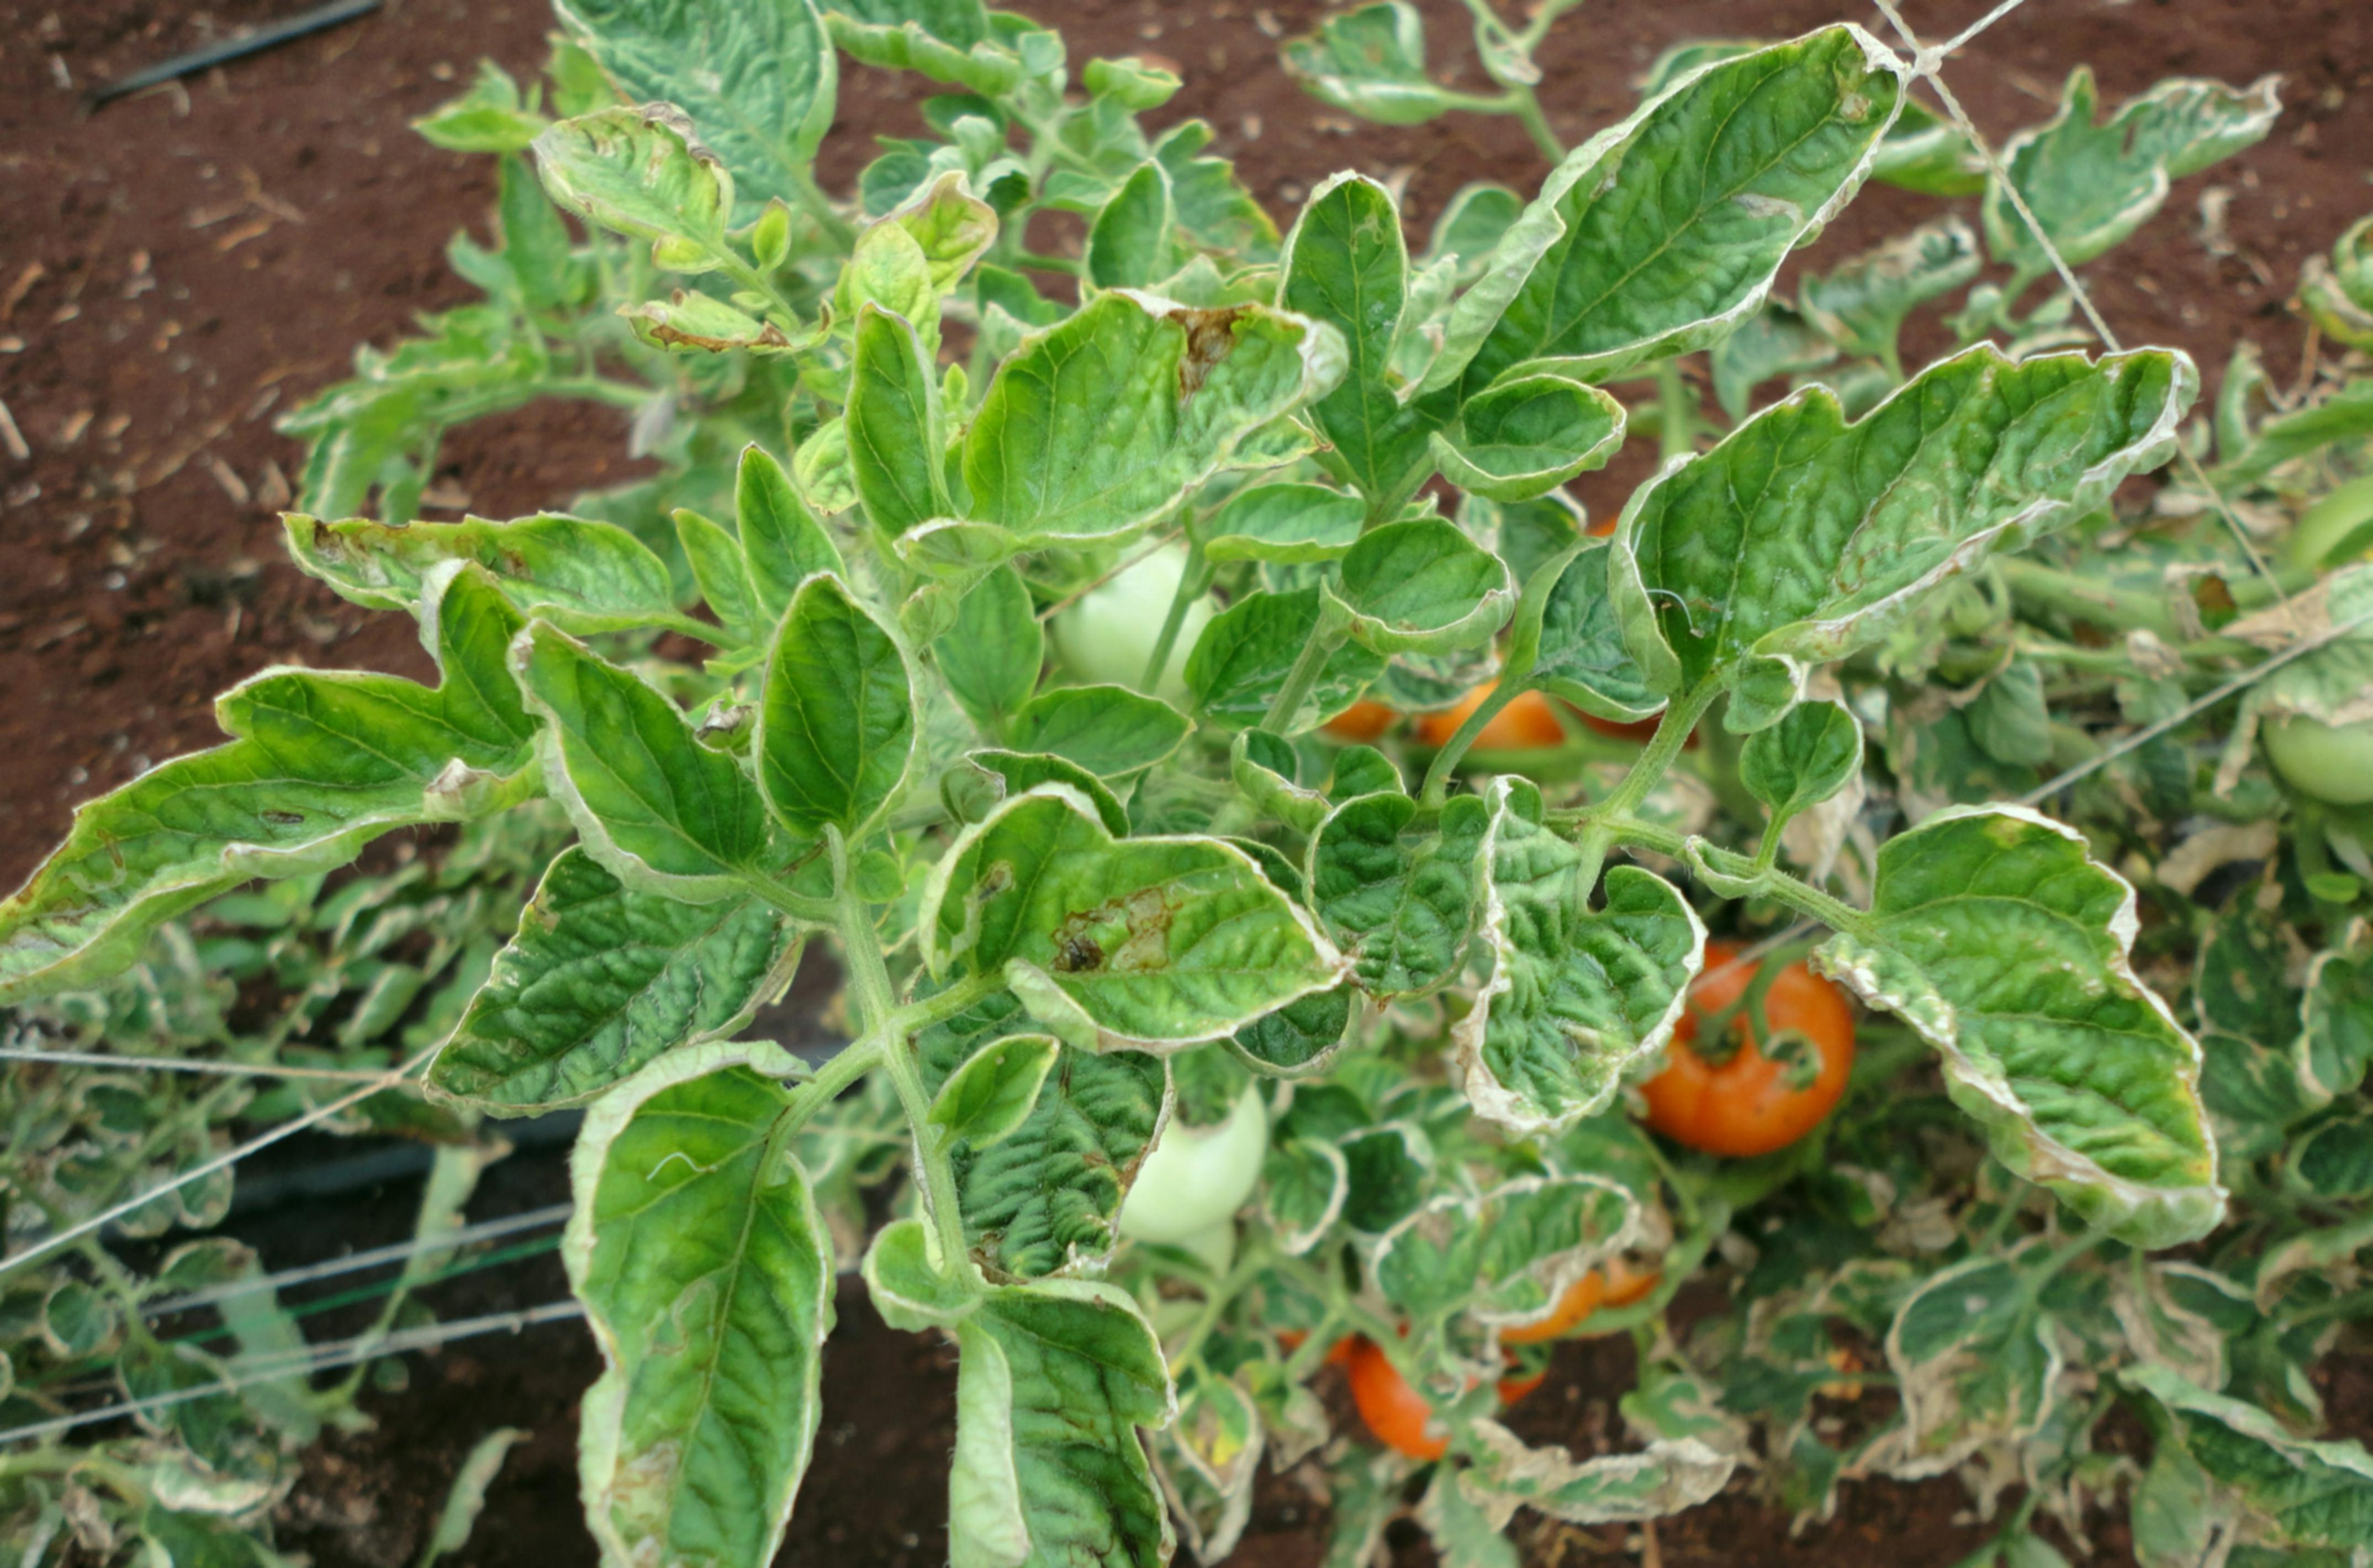Tomato leaf yellow virus: (1269, 19, 1937, 549), (21, 521, 553, 1034), (1573, 331, 2256, 658), (1825, 788, 2257, 1288), (803, 252, 1365, 627), (535, 1022, 843, 1568), (913, 712, 1365, 1048), (838, 1234, 1276, 1568), (1442, 768, 1734, 1264), (430, 602, 761, 887), (677, 555, 936, 845)
